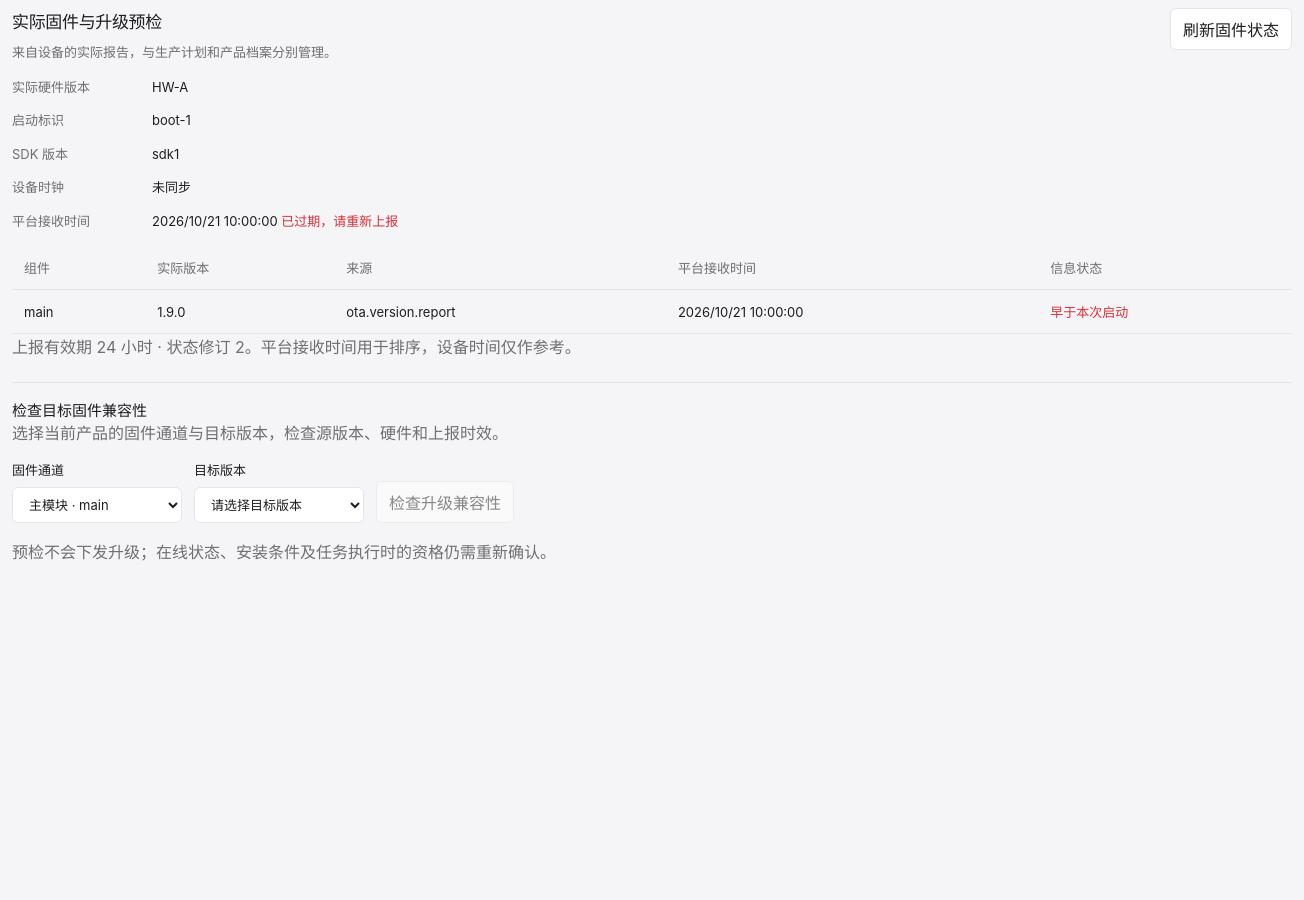
Scenario: shows every blocking reason and stale or previous-boot reports
Select "1.10.0 · 可用" in the dropdown named "预检目标版本" at coordinates (279, 505), box [194,487,364,523]
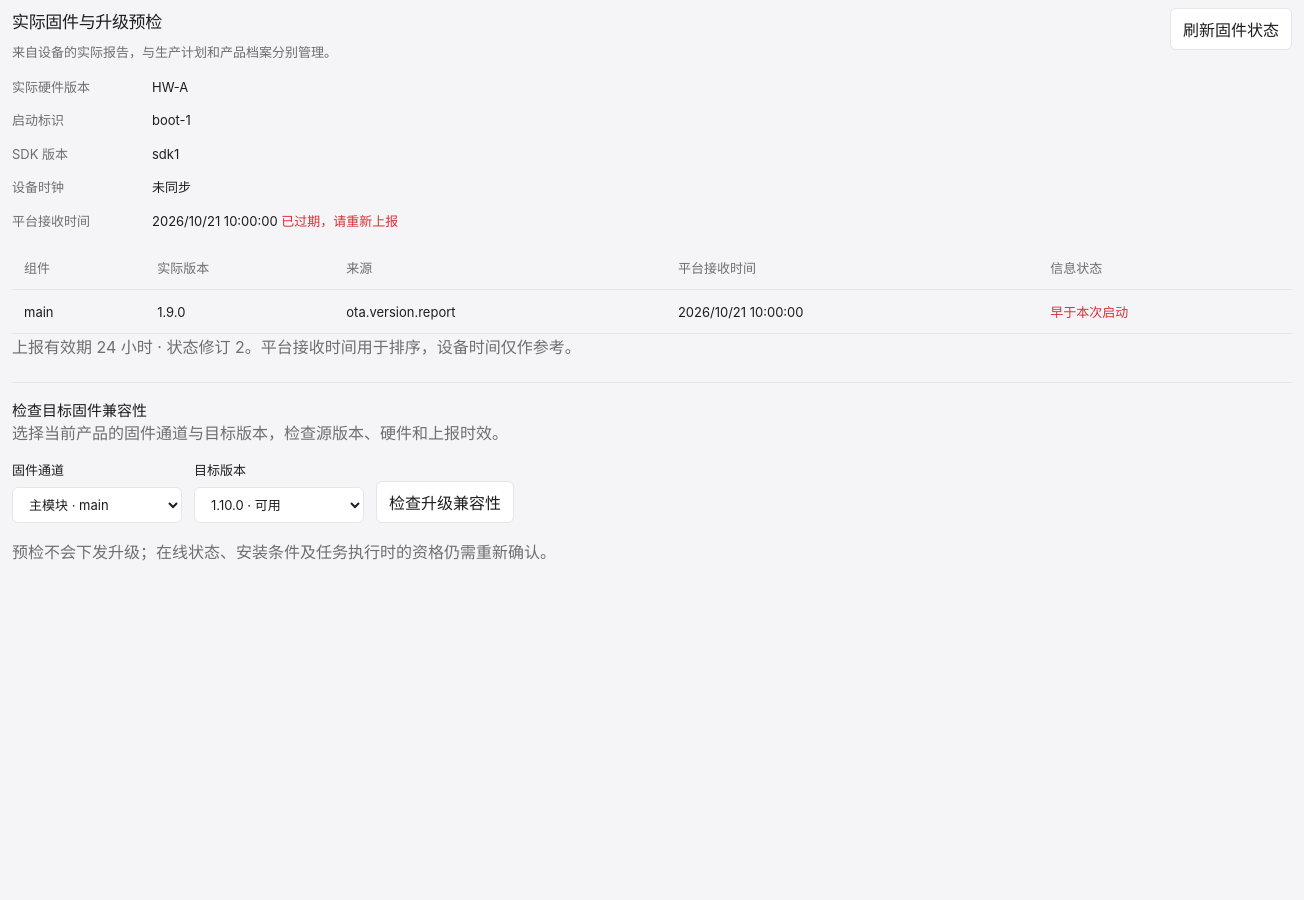
Click the button "检查升级兼容性" at coordinates (445, 502), box [376,481,514,523]
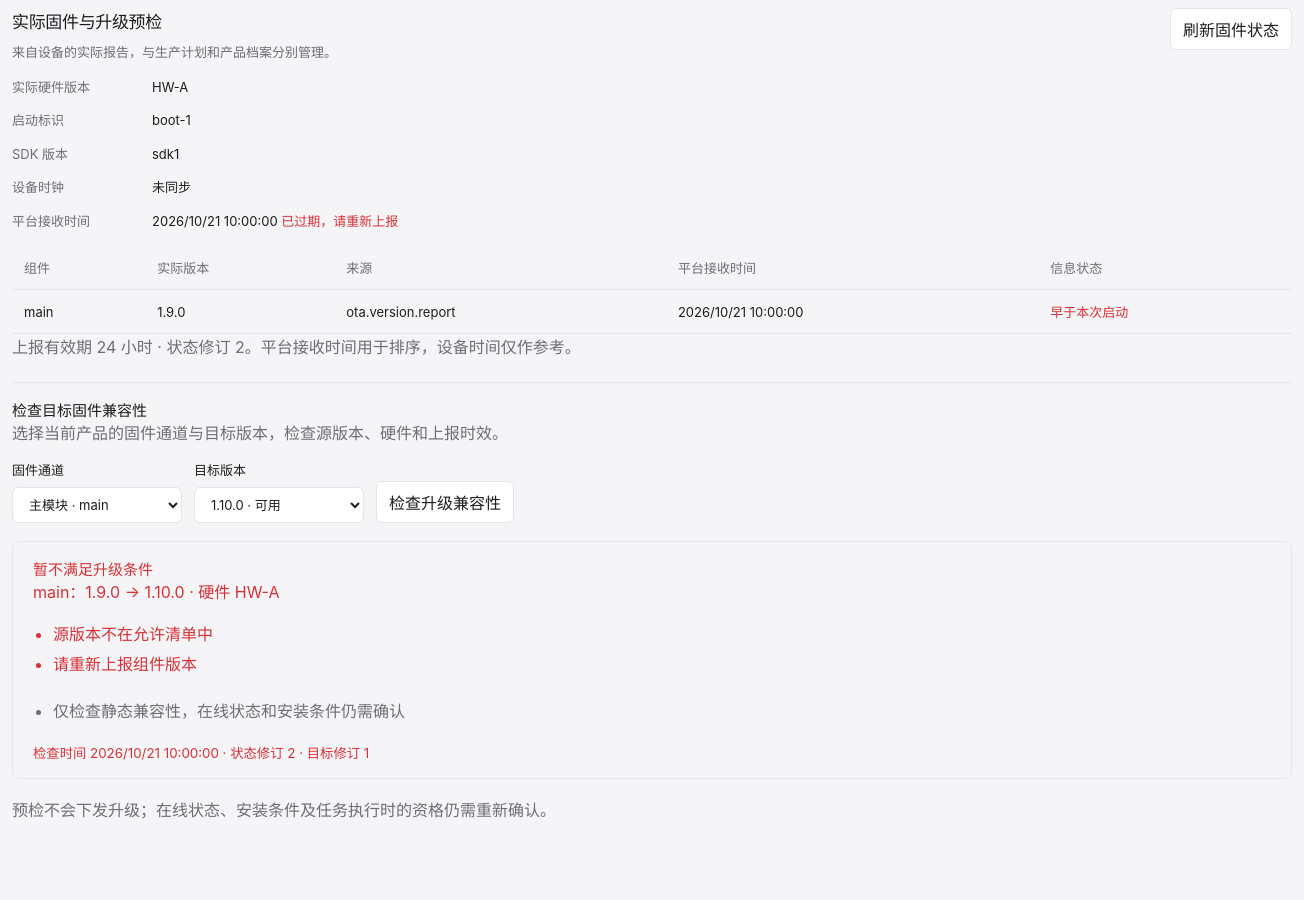
expect the text "暂不满足升级条件" is shown: met, box [33,560,153,579]
expect the text "源版本不在允许清单中" is shown: met, box [53,624,213,644]
expect the text "请重新上报组件版本" is shown: met, box [53,654,197,674]
